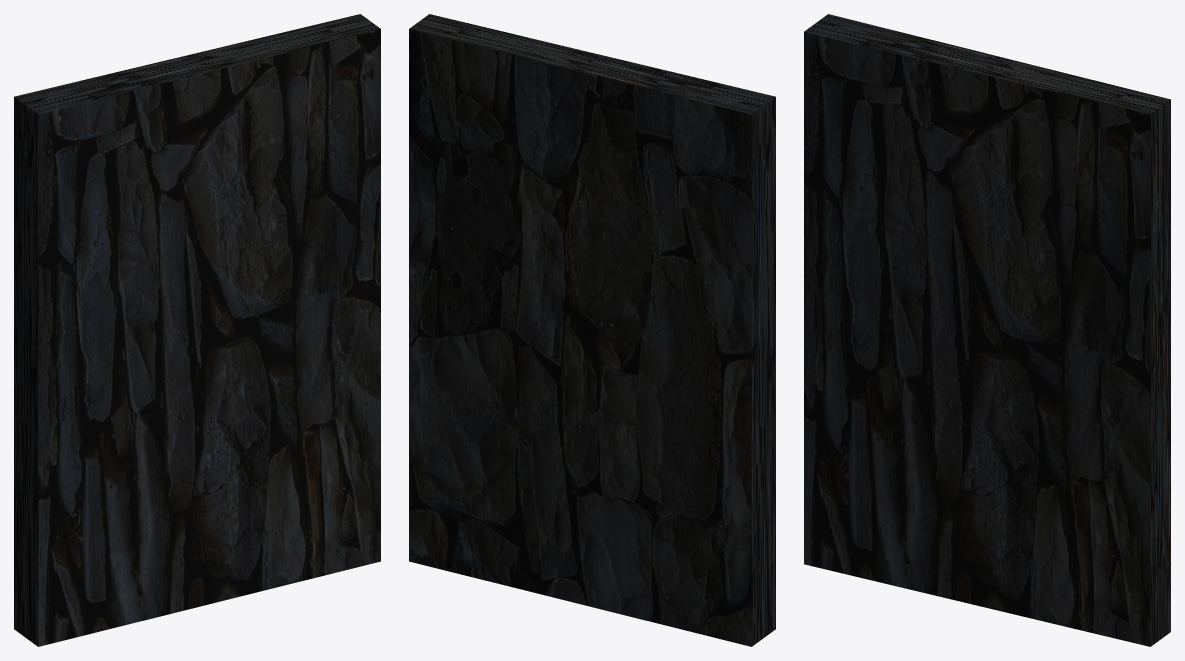
Rendered from BlackStoneWall.fbx.
3 renders of one model, left to right at view 1: azimuth 30°, elevation 25°; view 2: azimuth 150°, elevation 25°; view 3: azimuth 330°, elevation 25°, orthographic.
Visible parts, largest first — view 1: Cube; view 2: Cube; view 3: Cube.
Boxes of the visible parts, box(x1,y1,x2,y2) form: Cube: box(14, 14, 380, 646); Cube: box(409, 14, 775, 646); Cube: box(804, 14, 1170, 646).
Size of the model in its own units: 867 by 1280 by 106.
1 material, 1 textured.
